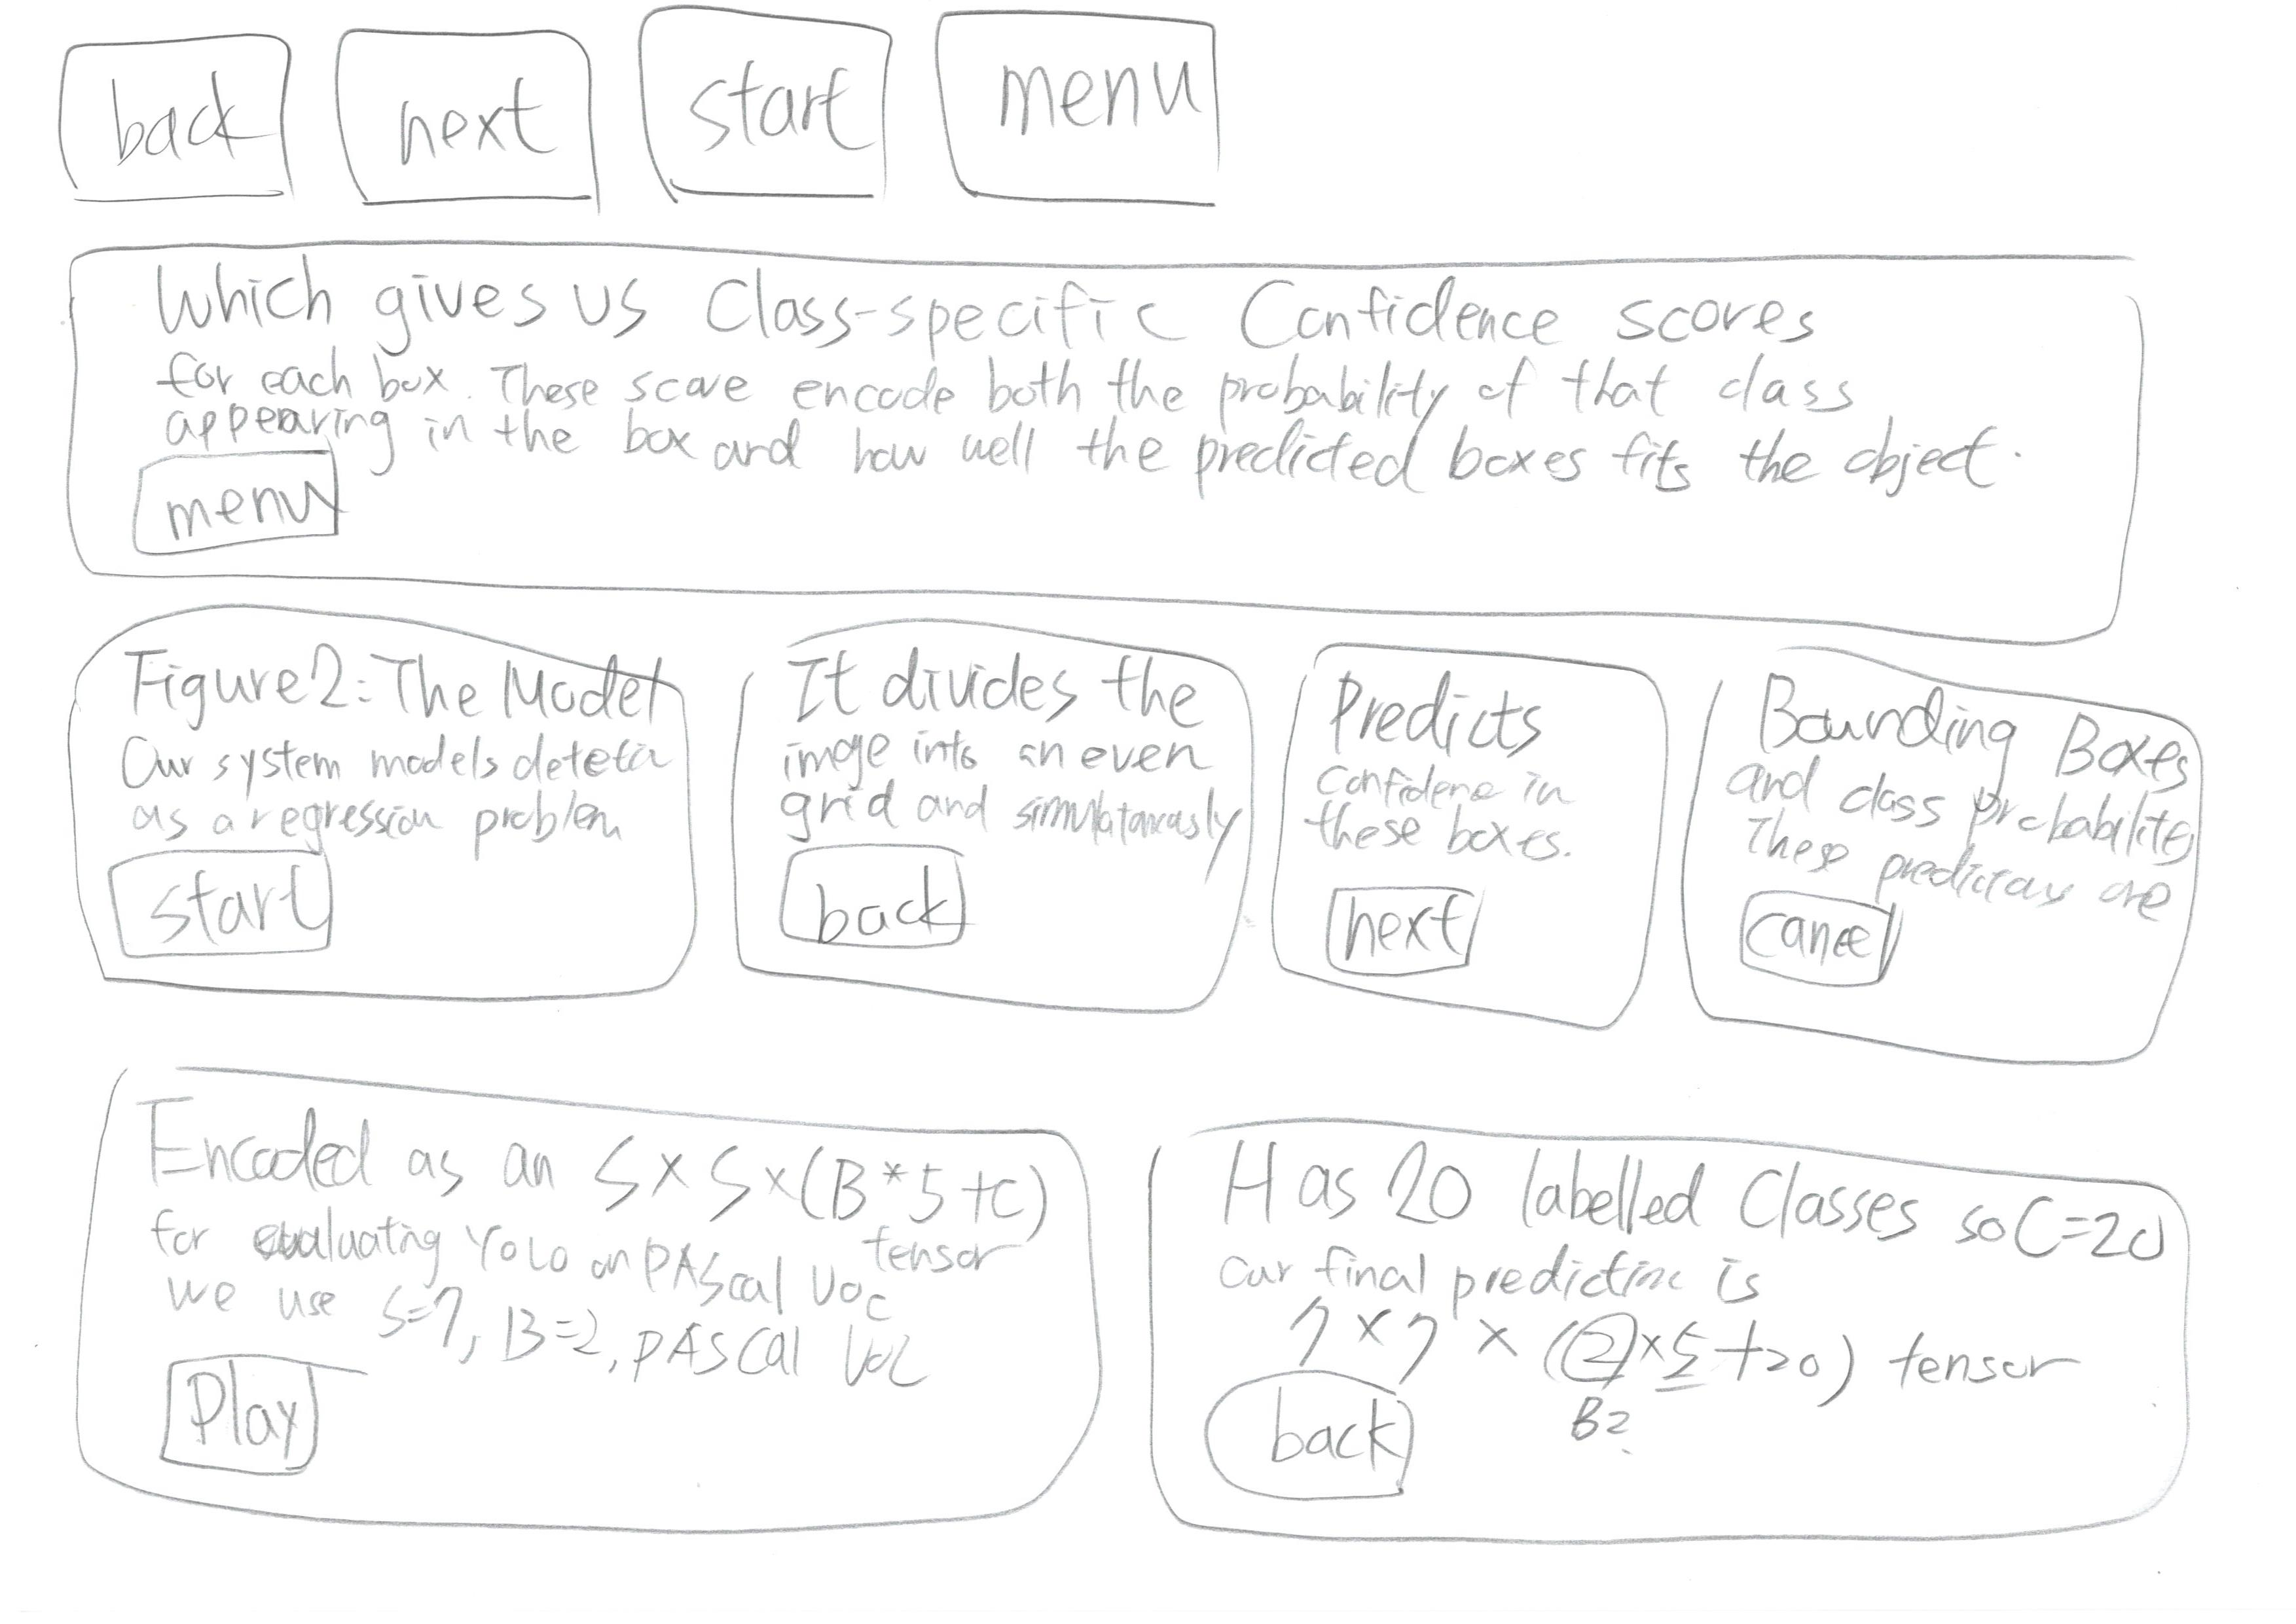back: (16, 18, 315, 225), (1195, 1353, 1428, 1510), (772, 826, 1006, 963)
cancel: (1705, 875, 1915, 1012)
double: (28, 1039, 1125, 1571), (1127, 1049, 2222, 1580)
menu: (914, 0, 1268, 223), (100, 439, 373, 568)
next: (320, 11, 621, 225), (1303, 859, 1498, 982)
play: (120, 1341, 352, 1490)
quadruple: (46, 582, 726, 1039), (1658, 594, 2294, 1081), (710, 584, 1268, 1051), (1268, 592, 1716, 1067)
row: (18, 1046, 2296, 1596), (18, 587, 2296, 1081), (18, 209, 2296, 664), (9, 5, 2287, 241)
single: (32, 211, 2242, 663)
small-title: (134, 255, 1841, 366), (1218, 1123, 2171, 1272), (155, 1107, 1055, 1239), (113, 638, 696, 721), (1765, 675, 2196, 780), (798, 645, 1206, 721), (1326, 670, 1589, 752)
start: (610, 0, 942, 220), (84, 831, 392, 967)
text: (139, 334, 2004, 501), (151, 1211, 946, 1387), (1222, 1250, 2090, 1388), (105, 721, 673, 842), (1732, 770, 2189, 914), (775, 721, 1261, 838), (1296, 754, 1584, 854)
